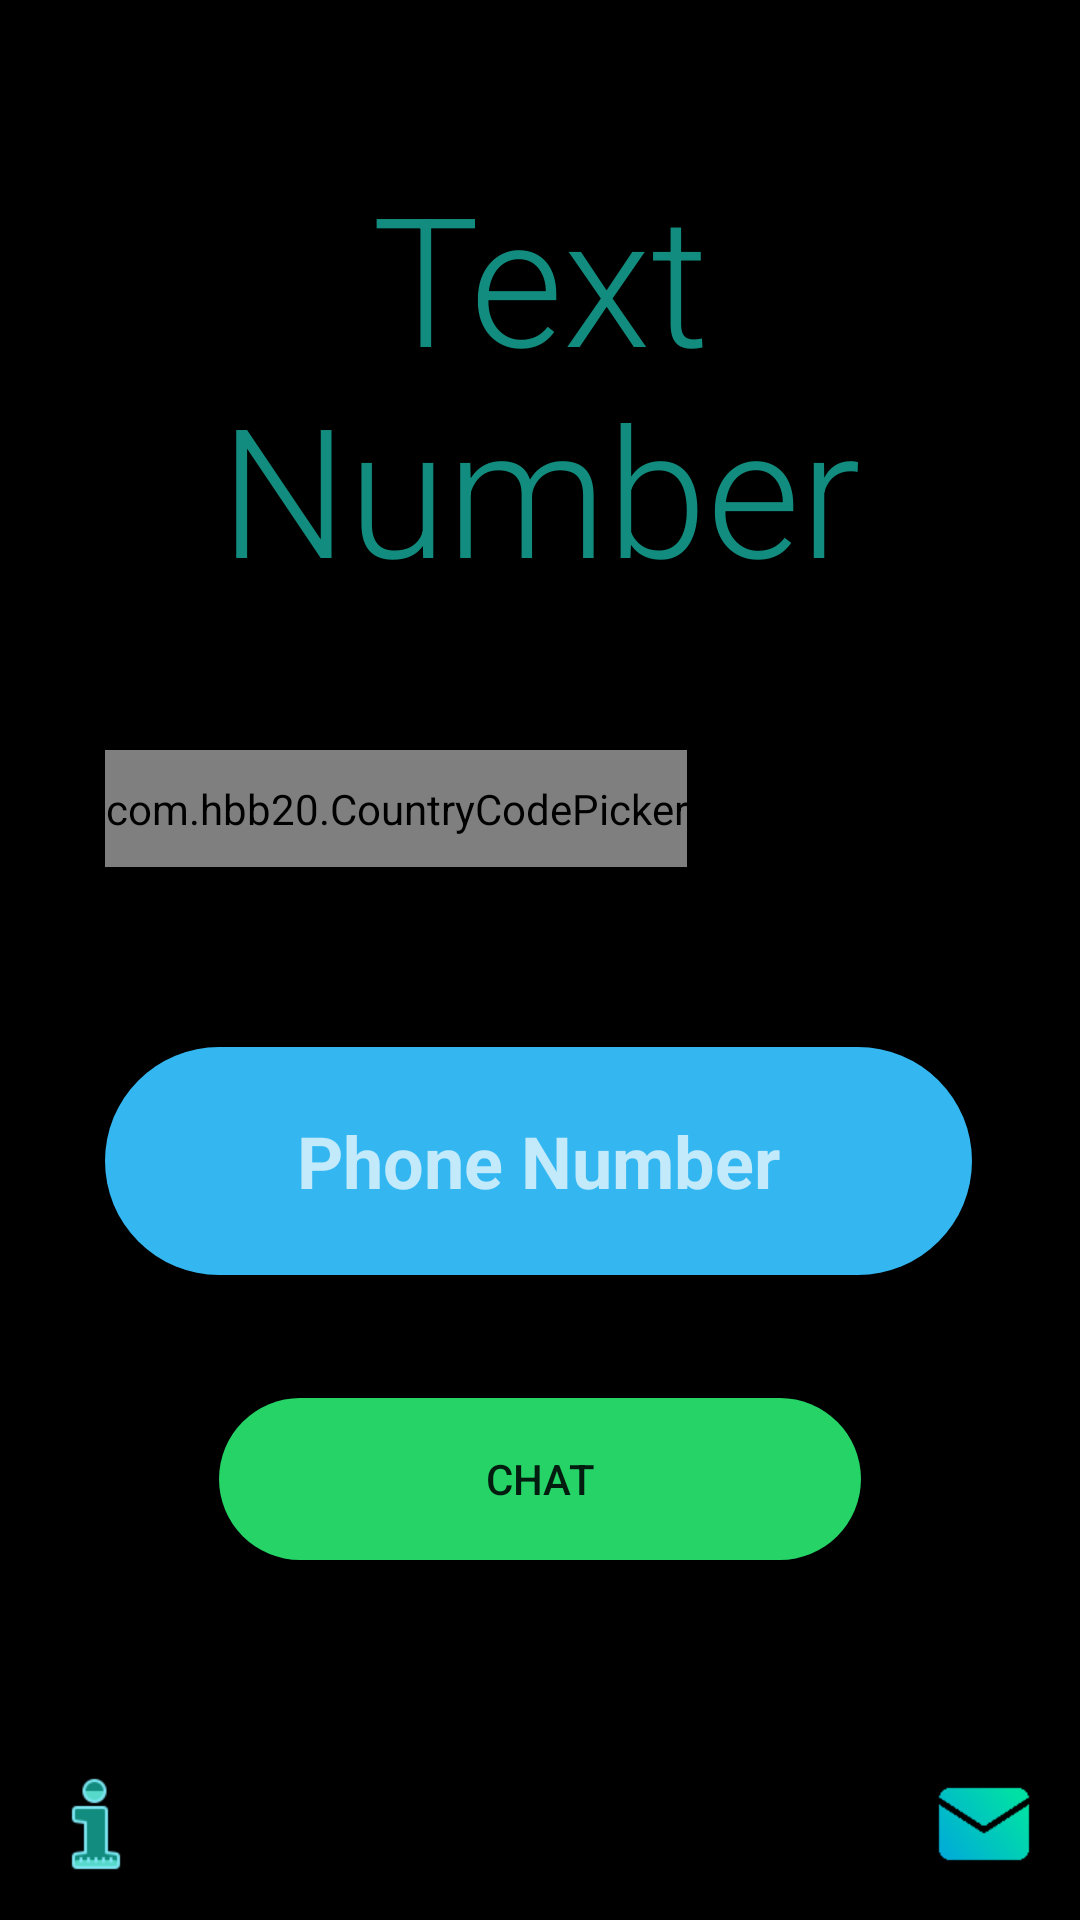

Icons on this 1080px×1920px Android screen, each with its box as (x1, y1, x2, y2):
email: (938, 1787, 1030, 1861)
info: (71, 1778, 121, 1870)
